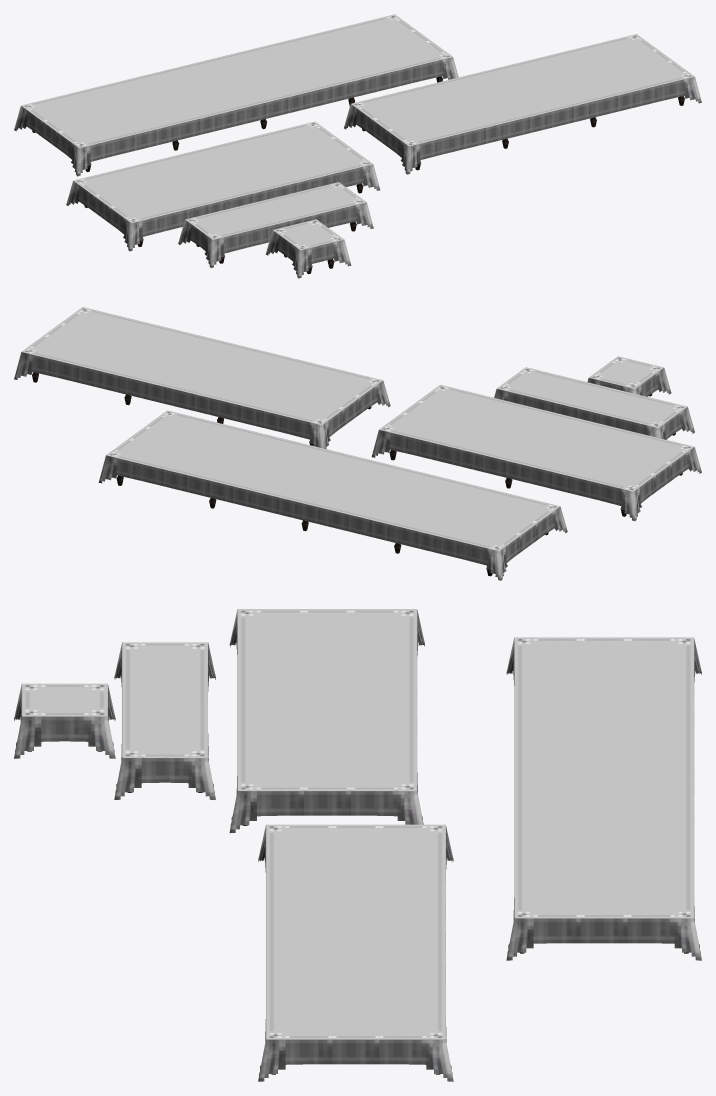
File: ObjMD_Co_Table_J_6_16_1.FBX
3 views of the same model, one above another, from view 1: azimuth 30°, elevation 25°; view 2: azimuth 150°, elevation 25°; view 3: azimuth 270°, elevation 25° (orthographic). The views are drawn at different scales.
Parts seen in each view (by area): view 1: ObjMD_Co_Table_J_6_16_1, ObjMD_Co_Table_J_6_12_1, ObjMD_Co_Table_J_6_10_1, ObjMD_Co_Table_J_2_6_1, ObjMD_Co_Table_J_2__1; view 2: ObjMD_Co_Table_J_6_16_1, ObjMD_Co_Table_J_6_12_1, ObjMD_Co_Table_J_6_10_1, ObjMD_Co_Table_J_2_6_1, ObjMD_Co_Table_J_2__1; view 3: ObjMD_Co_Table_J_6_16_1, ObjMD_Co_Table_J_6_12_1, ObjMD_Co_Table_J_6_10_1, ObjMD_Co_Table_J_2_6_1, ObjMD_Co_Table_J_2__1.
Part boxes in pixels (x1,y1,x2,y2): ObjMD_Co_Table_J_6_16_1: [14, 14, 458, 176]; ObjMD_Co_Table_J_6_12_1: [344, 34, 701, 174]; ObjMD_Co_Table_J_6_10_1: [66, 121, 380, 251]; ObjMD_Co_Table_J_2_6_1: [178, 182, 373, 267]; ObjMD_Co_Table_J_2__1: [265, 219, 351, 278]; ObjMD_Co_Table_J_6_16_1: [98, 410, 567, 580]; ObjMD_Co_Table_J_6_12_1: [14, 307, 390, 448]; ObjMD_Co_Table_J_6_10_1: [371, 385, 701, 521]; ObjMD_Co_Table_J_2_6_1: [494, 367, 694, 439]; ObjMD_Co_Table_J_2__1: [587, 356, 671, 396]; ObjMD_Co_Table_J_6_16_1: [506, 637, 701, 960]; ObjMD_Co_Table_J_6_12_1: [258, 824, 453, 1081]; ObjMD_Co_Table_J_6_10_1: [229, 609, 424, 833]; ObjMD_Co_Table_J_2_6_1: [114, 642, 215, 799]; ObjMD_Co_Table_J_2__1: [14, 683, 115, 758].
Bounding box in the file's own units: 1653 × 75 × 1099.
